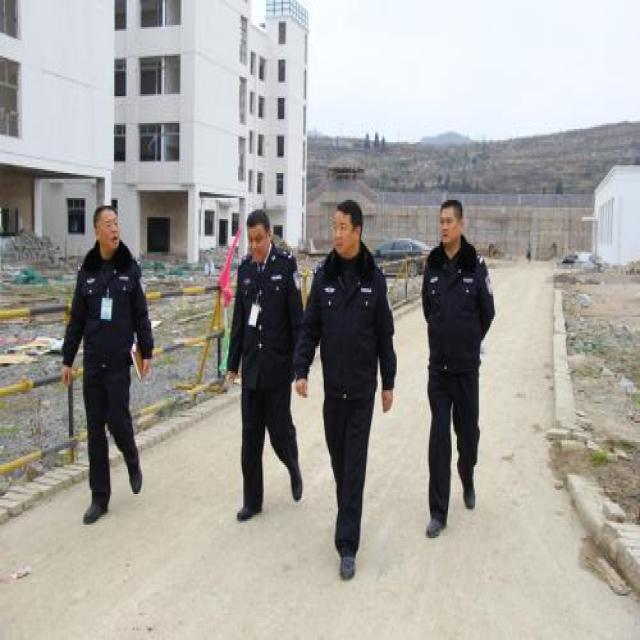no-helmet: (329, 200, 370, 263), (434, 192, 468, 254), (246, 206, 278, 271), (91, 198, 127, 254)
